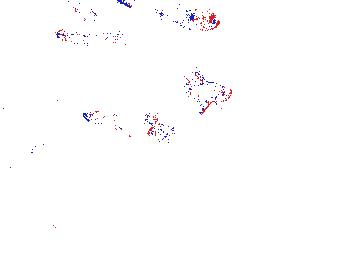X-ray fish: (309, 202, 324, 230)
red belly glassfish: (159, 3, 221, 31), (102, 29, 138, 46), (149, 122, 174, 142)
redtail glassfish: (81, 100, 159, 133), (180, 72, 230, 117), (48, 1, 134, 21), (50, 25, 120, 49)
